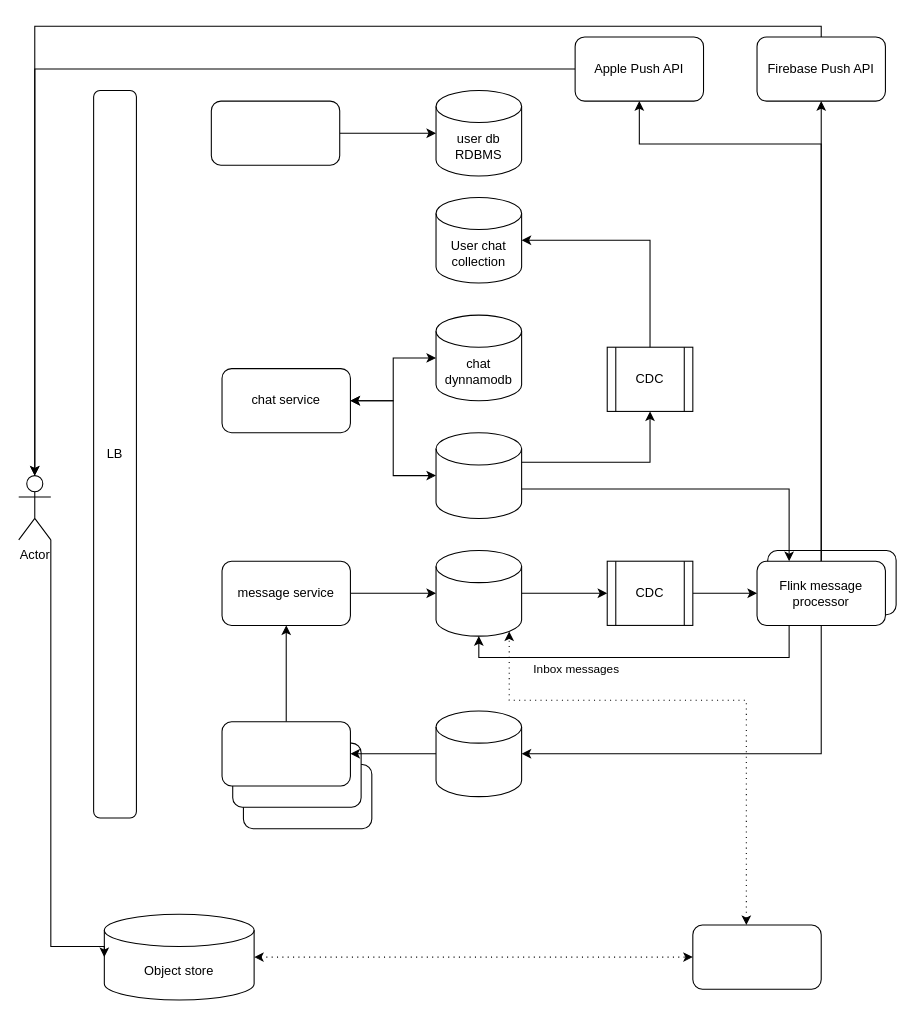
Image size: 915x1019. Some labels were removed from this diagram. The shapes that lost their labels are listed below. From the top down, each one's box as (x1, y1, x2, y2) in pixels, then its label:
(210, 100, 340, 165): user service
(435, 432, 522, 518): chat user membership RDBMS
(435, 549, 522, 636): message db cassandra
(221, 721, 350, 786): Socket hub
(435, 710, 522, 797): Redis pub sub
(692, 924, 821, 989): Message cleanup job
